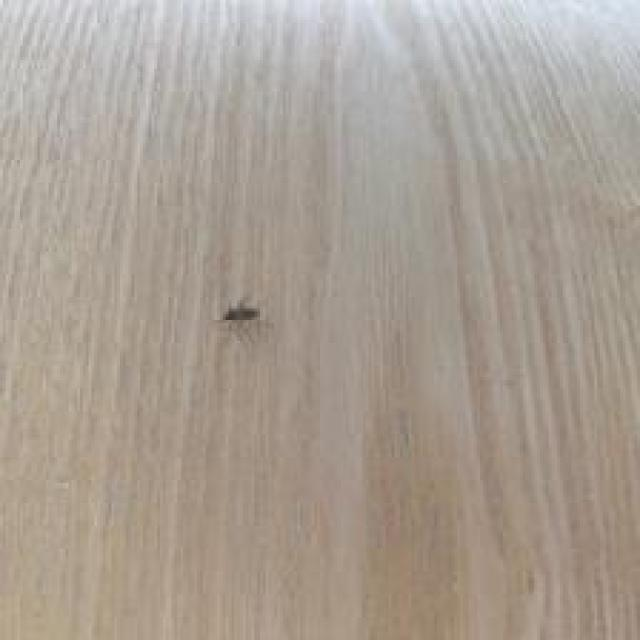Culex: (220, 297, 260, 323)
